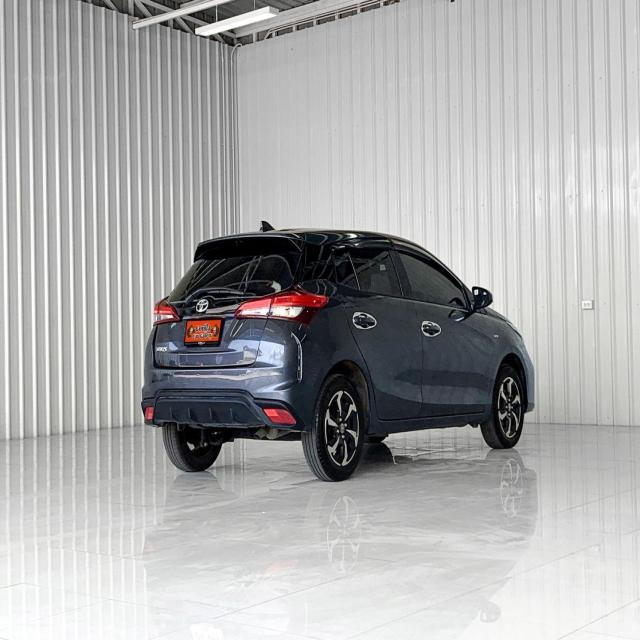Hatchback: (143, 226, 536, 482)
